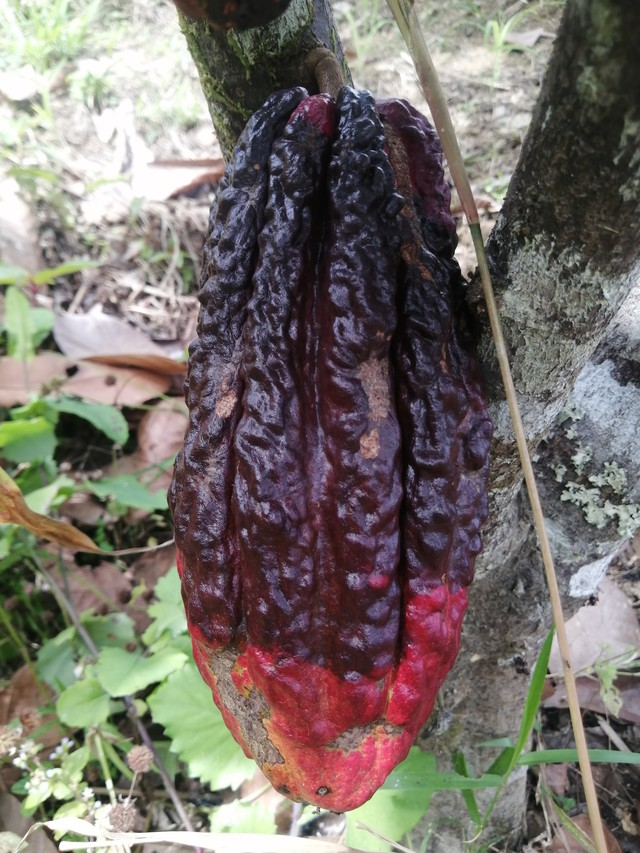phytophthora palmivora: (147, 72, 506, 825)
